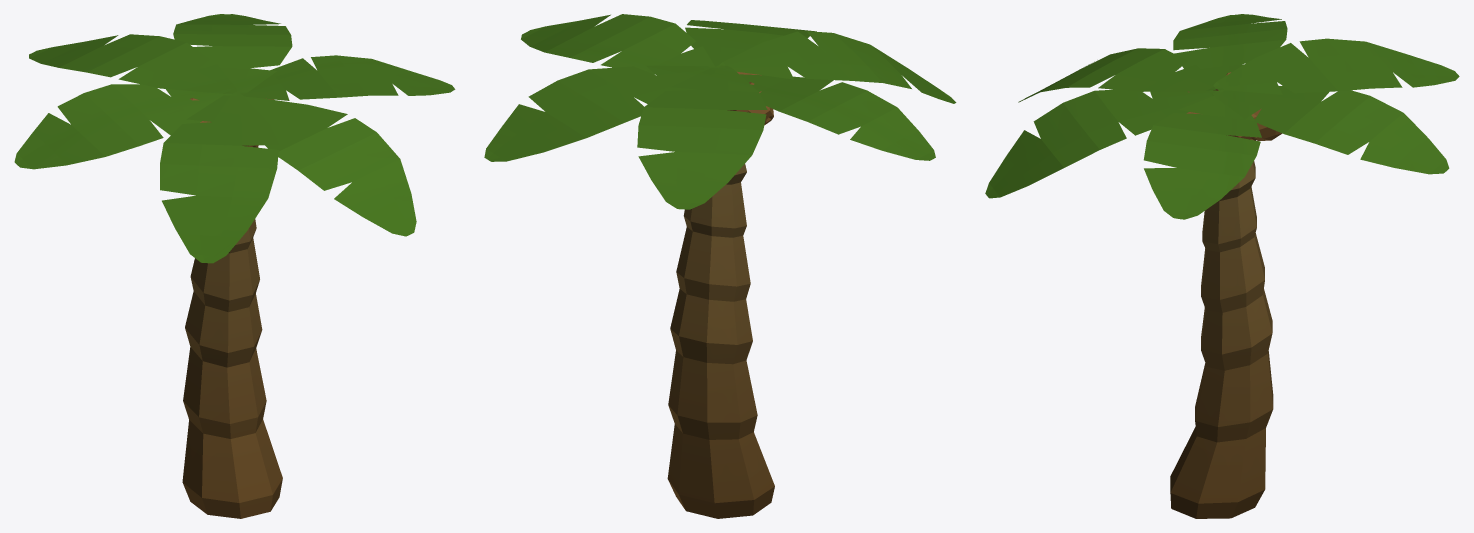
Rendered from SM_PalmTree1.fbx.
3 renders of one model, left to right at view 1: azimuth 30°, elevation 25°; view 2: azimuth 150°, elevation 25°; view 3: azimuth 270°, elevation 25°, orthographic. The views are drawn at different scales.
Visible parts, largest first — view 1: SM_PalmTree2_Coconut1; view 2: SM_PalmTree2_Coconut1; view 3: SM_PalmTree2_Coconut1.
Boxes of the visible parts, bbox=[...] form: SM_PalmTree2_Coconut1: bbox=[14, 14, 455, 518]; SM_PalmTree2_Coconut1: bbox=[484, 14, 956, 518]; SM_PalmTree2_Coconut1: bbox=[985, 14, 1459, 518].
Bounding box in the file's own units: 930 × 894 × 916.
